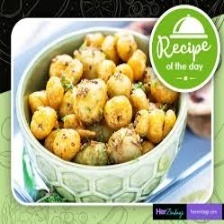sabzi: (27, 34, 178, 165)
